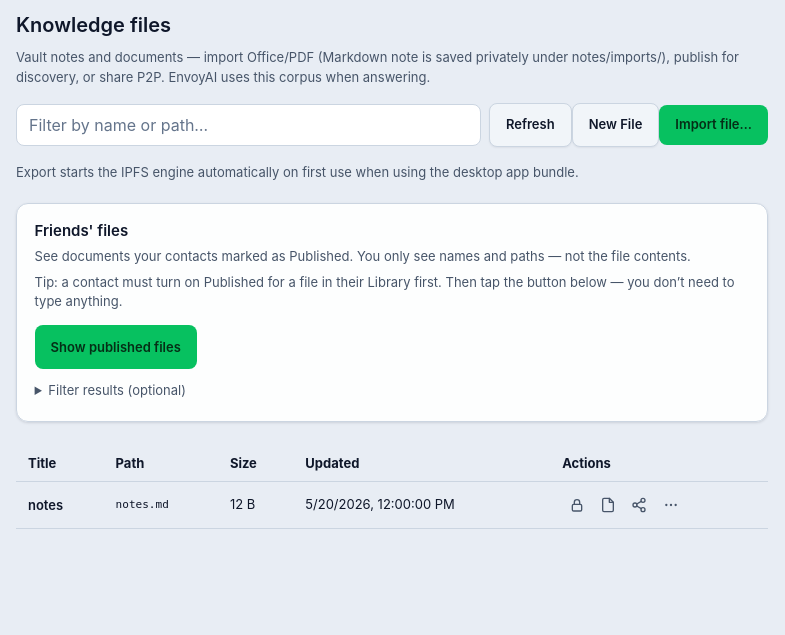
Test: LibraryView IPFS UI › shows Export in the overflow menu when allowIpfs is true
Click the button named "More actions": (670, 505) [656,490,685,520]
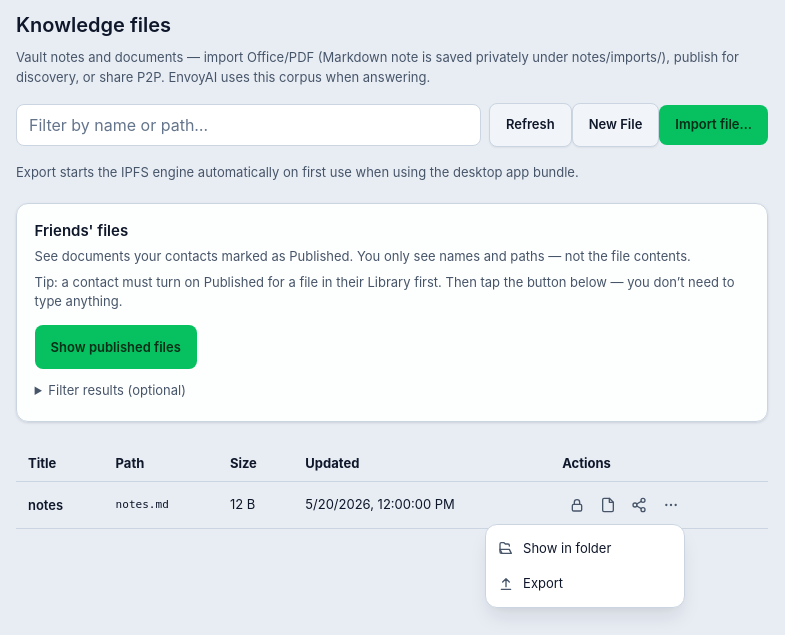
Result: the menu item "Export" is shown at [486,566,684,602]
